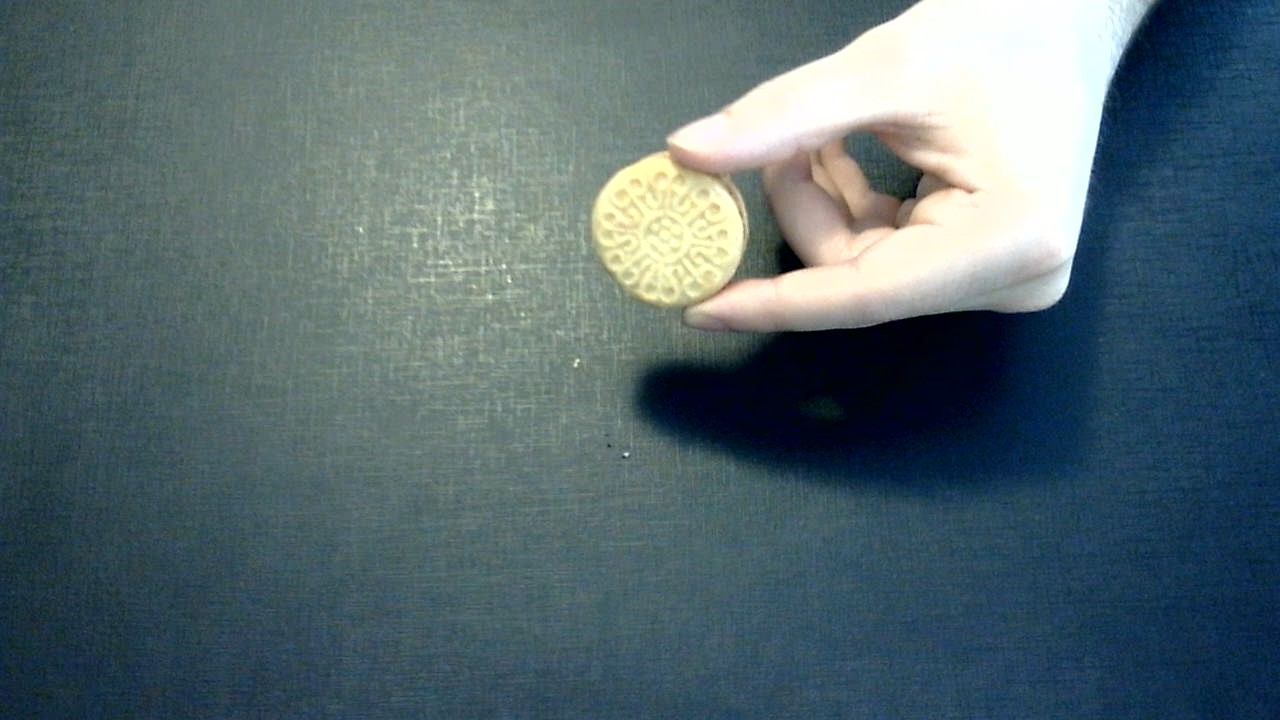lulu: (590, 148, 750, 308)
